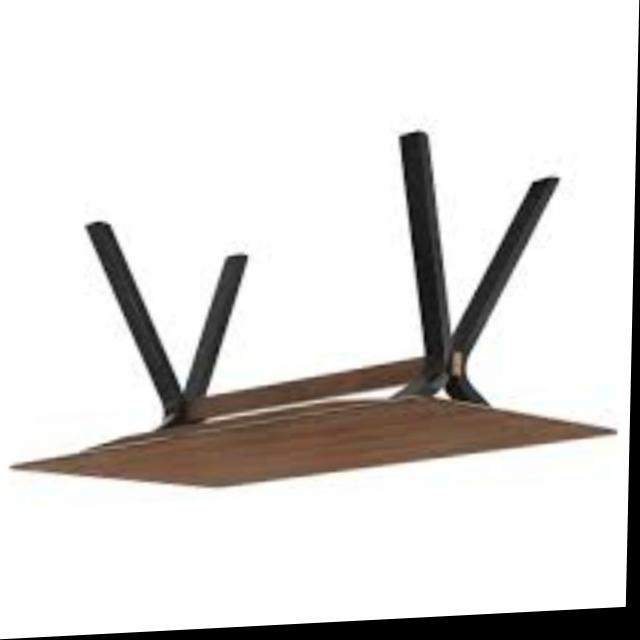Table: (0, 120, 637, 515)
